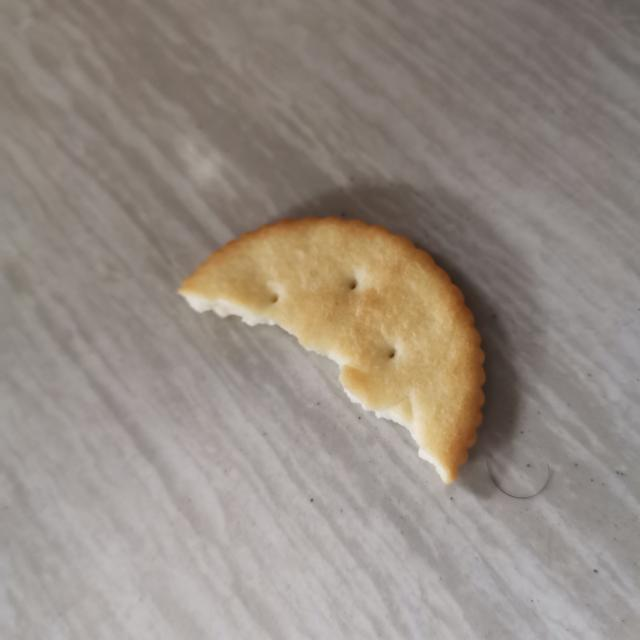Broken: (177, 215, 487, 485)
